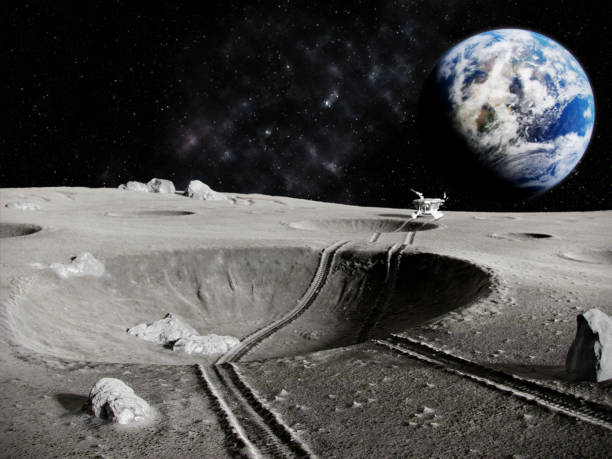boulder: (80, 376, 161, 427), (565, 306, 611, 386), (119, 178, 179, 198), (185, 178, 221, 204)
crater: (4, 244, 498, 375)
